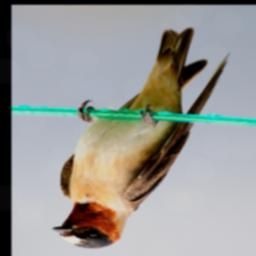Swallow: (51, 26, 231, 250)
